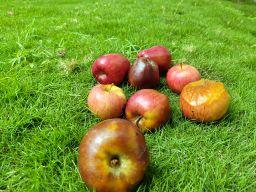apple: (70, 115, 157, 192), (178, 75, 232, 127), (124, 84, 174, 135), (78, 80, 132, 122), (87, 44, 132, 88), (166, 60, 206, 92), (130, 52, 162, 90), (136, 44, 174, 71)
